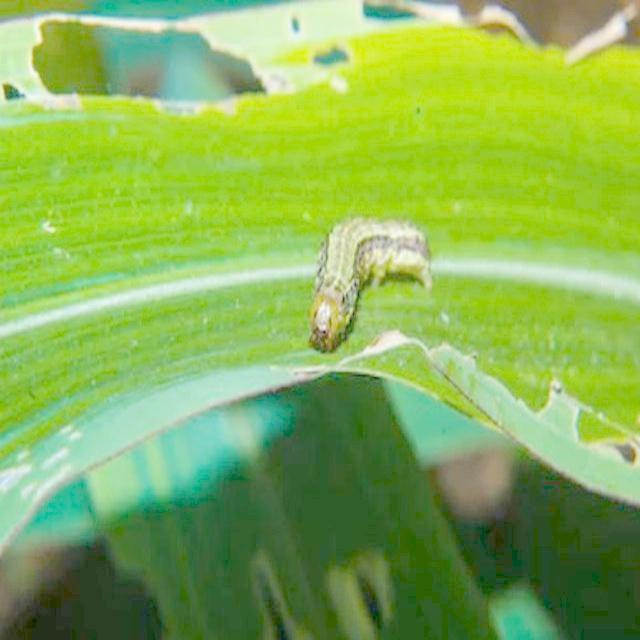gusano_cogollero: (304, 214, 431, 356)
